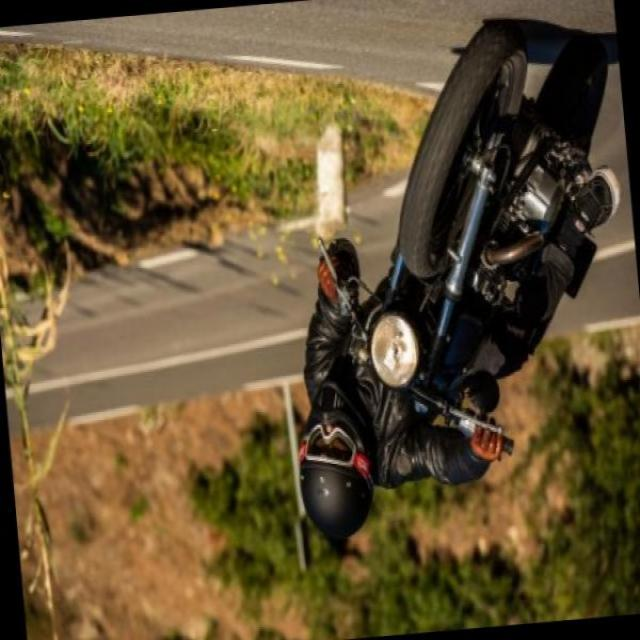Helmet: (270, 413, 396, 520)
